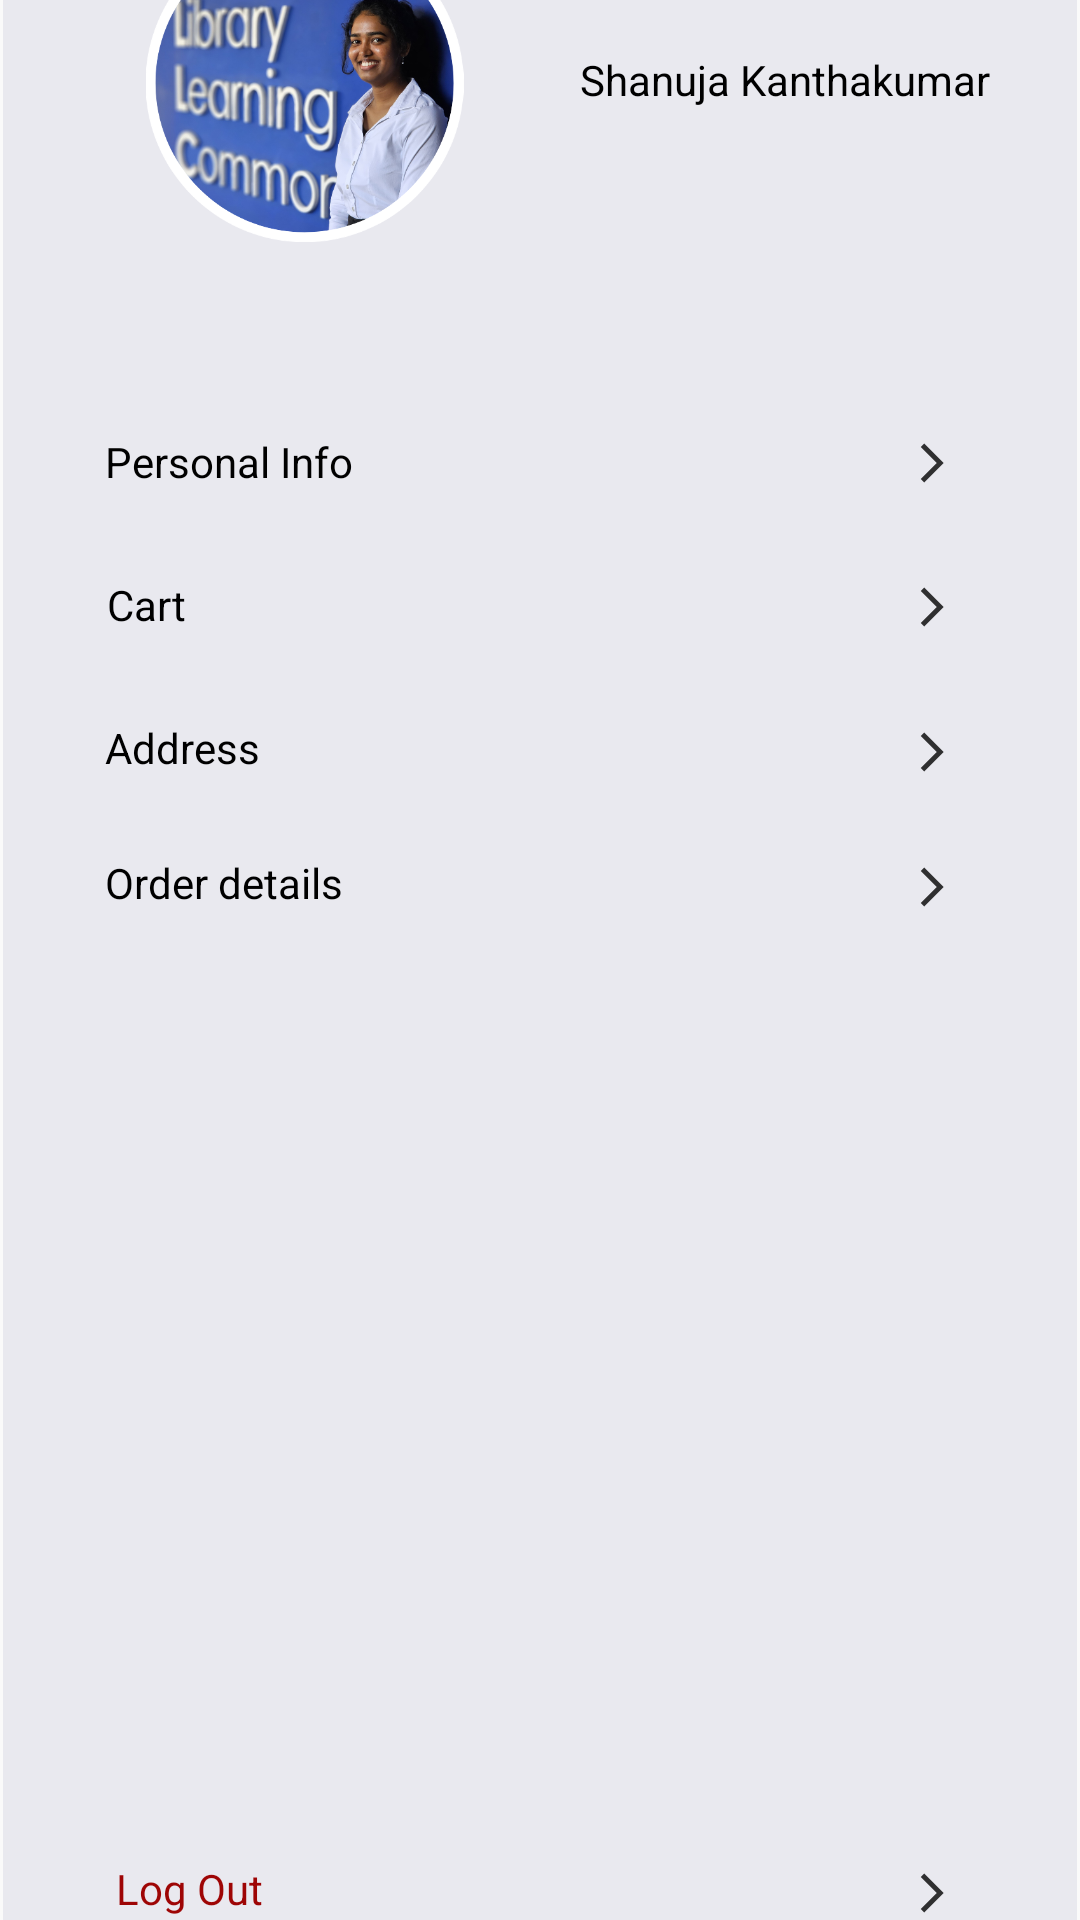

Screen size 1080*1920. Icon name, then its box in pixels as [left=x1, top=y1, right=x2, bottom=y2]:
next: [left=921, top=443, right=944, bottom=483], [left=921, top=587, right=944, bottom=627], [left=921, top=732, right=944, bottom=772], [left=921, top=867, right=944, bottom=907], [left=921, top=1873, right=944, bottom=1913]
